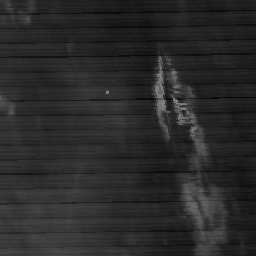Target: (104, 90, 110, 95)
